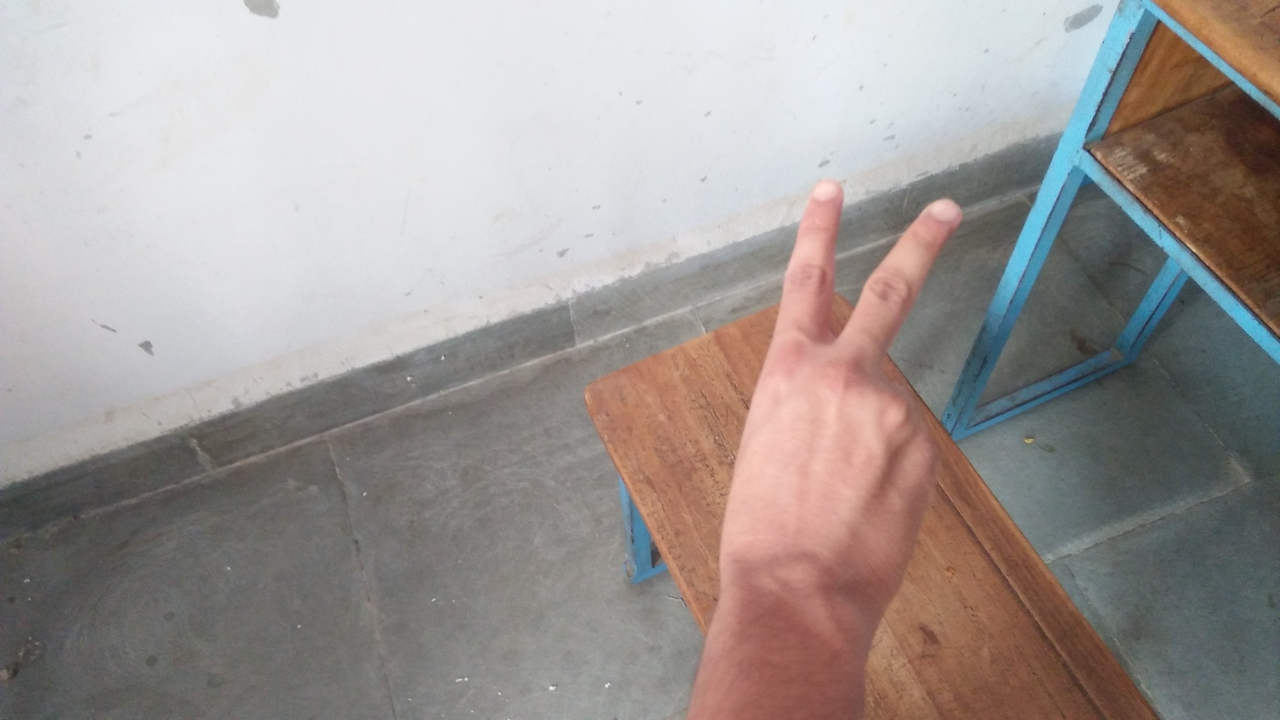fingertip: (914, 190, 972, 240), (802, 168, 854, 214)
